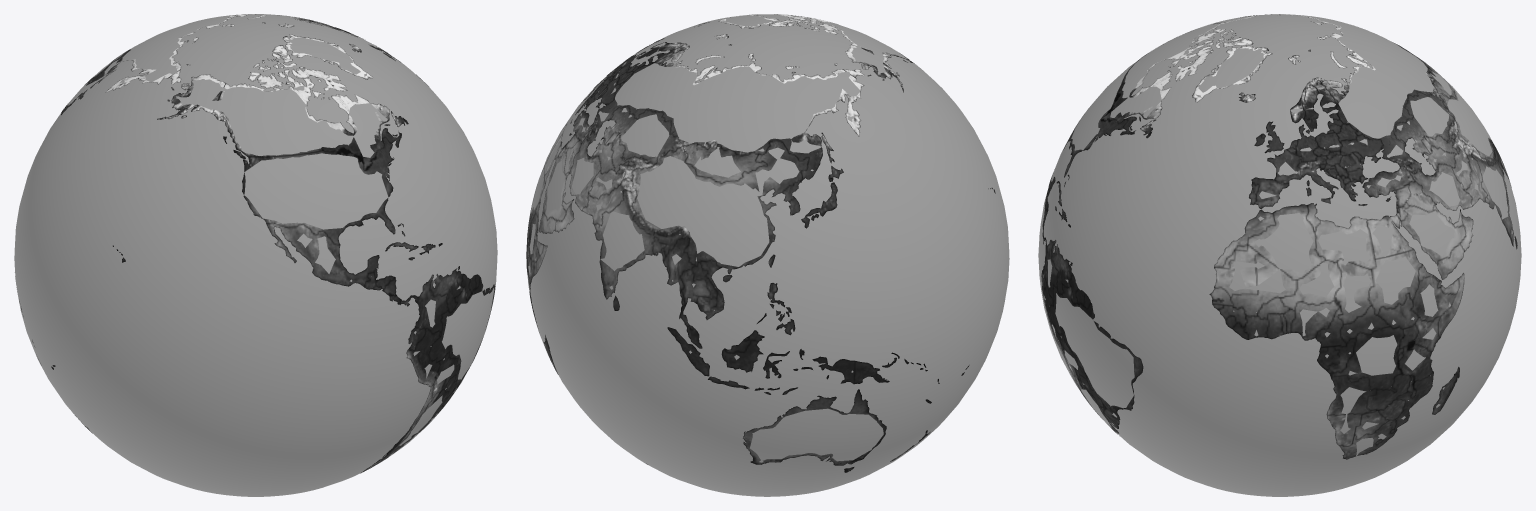
File: earth.gltf
3 views of the same model, side by side, from view 1: azimuth 30°, elevation 25°; view 2: azimuth 150°, elevation 25°; view 3: azimuth 270°, elevation 25° (orthographic).
Visible parts, largest first — view 1: Sea_shading, 027_Canada-col, 168_United_States-col, 102_Mexico-col, 135_Russia-col, 022_Brazil-col, 124_Peru-col, 035_Colombia-col, 170_Venezuela-col, 065_Greenland-col; view 2: Sea_shading, 135_Russia-col, 030_China-col, 072_Indonesia-col, 073_India-col, 008_Australia-col, 083_Kazakhstan-col, 107_Mongolia-col, 105_Myanmar-col, 122_Pakistan-col, 075_Iran-col, 156_Thailand-col (+6 smaller); view 3: Sea_shading, 027_Canada-col, 135_Russia-col, 033_Democratic_Republic_of_the_Congo-col, 022_Brazil-col, 104_Mali-col, 045_Algeria-col, 139_Sudan-col, 093_Libya-col, 154_Chad-col, 083_Kazakhstan-col, 109_Mauritania-col (+27 smaller).
Part boxes in pixels (left/top/right/bottom): Sea_shading: left=14, top=14, right=497, bottom=496; 027_Canada-col: left=213, top=45, right=408, bottom=170; 168_United_States-col: left=113, top=74, right=395, bottom=262; 102_Mexico-col: left=266, top=222, right=379, bottom=287; 135_Russia-col: left=86, top=14, right=307, bottom=92; 022_Brazil-col: left=428, top=277, right=495, bottom=408; 124_Peru-col: left=406, top=328, right=440, bottom=387; 035_Colombia-col: left=414, top=274, right=449, bottom=336; 170_Venezuela-col: left=429, top=268, right=463, bottom=312; 065_Greenland-col: left=282, top=34, right=372, bottom=79; Sea_shading: left=527, top=14, right=1009, bottom=496; 135_Russia-col: left=594, top=44, right=864, bottom=182; 030_China-col: left=632, top=140, right=809, bottom=282; 072_Indonesia-col: left=667, top=327, right=854, bottom=394; 073_India-col: left=594, top=189, right=685, bottom=299; 008_Australia-col: left=743, top=389, right=886, bottom=472; 083_Kazakhstan-col: left=602, top=106, right=682, bottom=165; 107_Mongolia-col: left=683, top=141, right=767, bottom=183; 105_Myanmar-col: left=663, top=235, right=695, bottom=310; 122_Pakistan-col: left=581, top=180, right=635, bottom=225; 075_Iran-col: left=569, top=135, right=601, bottom=210; 156_Thailand-col: left=679, top=269, right=709, bottom=329; Sea_shading: left=1038, top=14, right=1521, bottom=496; 027_Canada-col: left=1101, top=22, right=1253, bottom=138; 135_Russia-col: left=1265, top=14, right=1437, bottom=163; 033_Democratic_Republic_of_the_Congo-col: left=1331, top=326, right=1404, bottom=392; 022_Brazil-col: left=1049, top=283, right=1143, bottom=427; 104_Mali-col: left=1230, top=255, right=1297, bottom=316; 045_Algeria-col: left=1247, top=204, right=1325, bottom=280; 139_Sudan-col: left=1368, top=249, right=1422, bottom=314; 093_Libya-col: left=1314, top=216, right=1375, bottom=269; 154_Chad-col: left=1335, top=259, right=1374, bottom=324; 083_Kazakhstan-col: left=1393, top=91, right=1455, bottom=155; 109_Mauritania-col: left=1214, top=245, right=1260, bottom=296.
Size of the model in its own units: 2 by 2 by 2.
